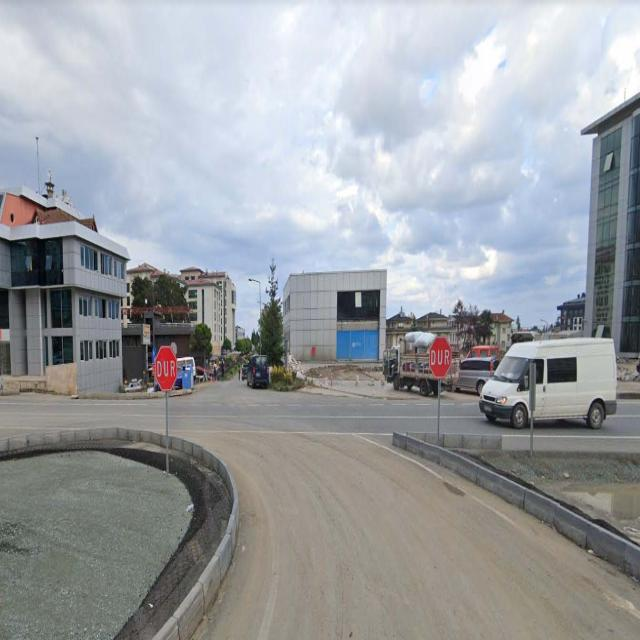dur: (428, 336, 452, 386), (154, 346, 177, 392)
